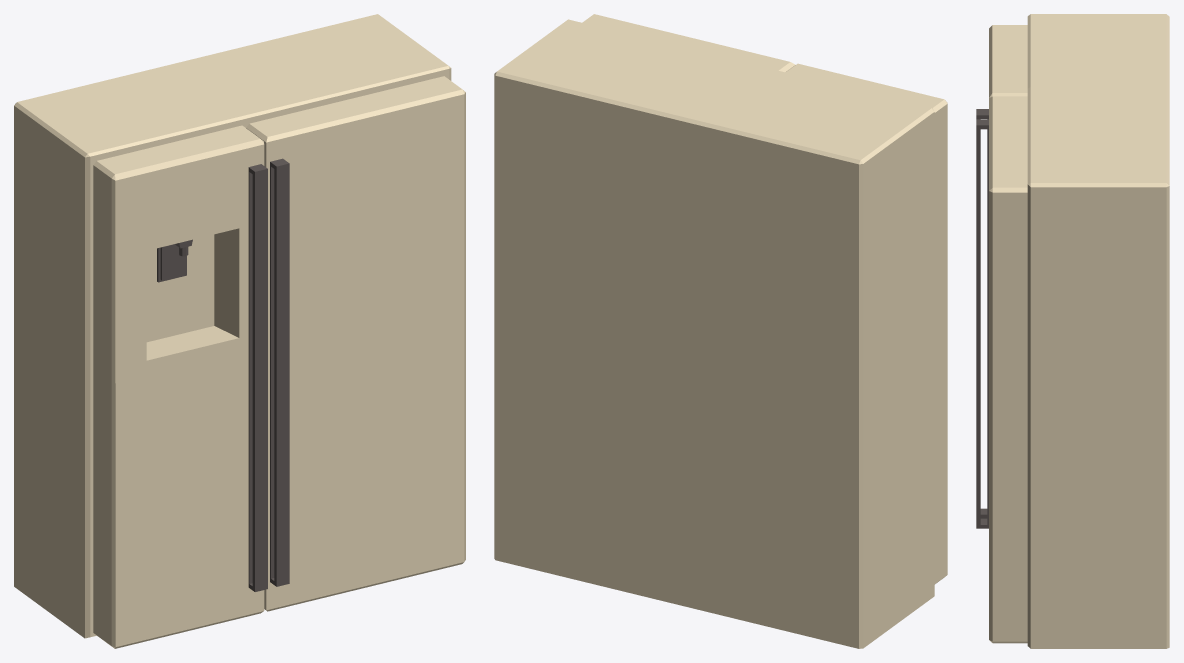
The model's file is SidebySideFridge1.glb.
3 renders of one model, left to right at view 1: azimuth 30°, elevation 25°; view 2: azimuth 150°, elevation 25°; view 3: azimuth 270°, elevation 25°, orthographic. The views are drawn at different scales.
Visible parts, largest first — view 1: DoorLeft1_SidebySideFridge1, DoorRight1_SidebySideFridge1, SidebySideFridge1; view 2: SidebySideFridge1, DoorRight1_SidebySideFridge1, DoorLeft1_SidebySideFridge1; view 3: SidebySideFridge1, DoorLeft1_SidebySideFridge1, DoorRight1_SidebySideFridge1.
Part boxes in pixels (x1,y1,x2,y2): DoorLeft1_SidebySideFridge1: [246, 76, 465, 611]; DoorRight1_SidebySideFridge1: [93, 125, 267, 648]; SidebySideFridge1: [14, 14, 451, 638]; SidebySideFridge1: [494, 19, 934, 648]; DoorRight1_SidebySideFridge1: [786, 63, 947, 584]; DoorLeft1_SidebySideFridge1: [582, 14, 795, 72]; SidebySideFridge1: [1027, 14, 1169, 648]; DoorLeft1_SidebySideFridge1: [976, 96, 1027, 643]; DoorRight1_SidebySideFridge1: [976, 25, 1027, 518].
Size of the model in its own units: 1.76 by 2.22 by 0.8355.
